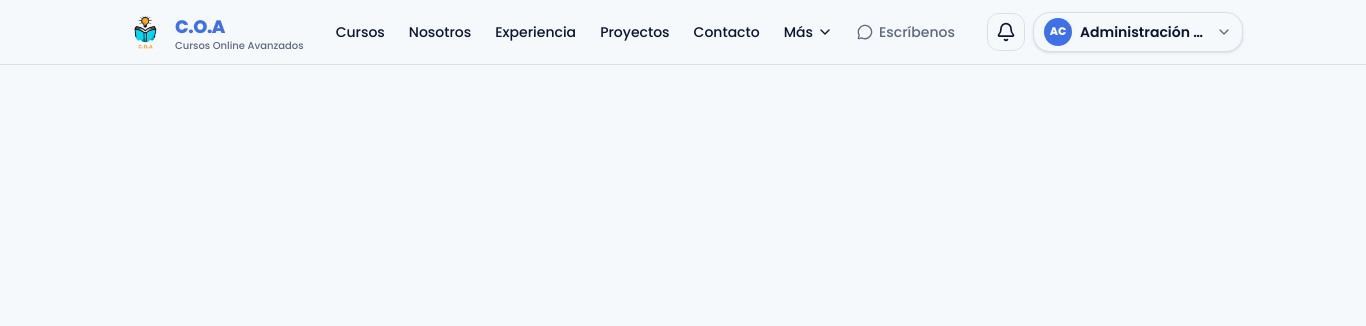
Scenario: shows the admin account and links to the administration panel
Click the button "AC Administración COA" at (1138, 32), box left=1033, top=12, right=1243, bottom=52
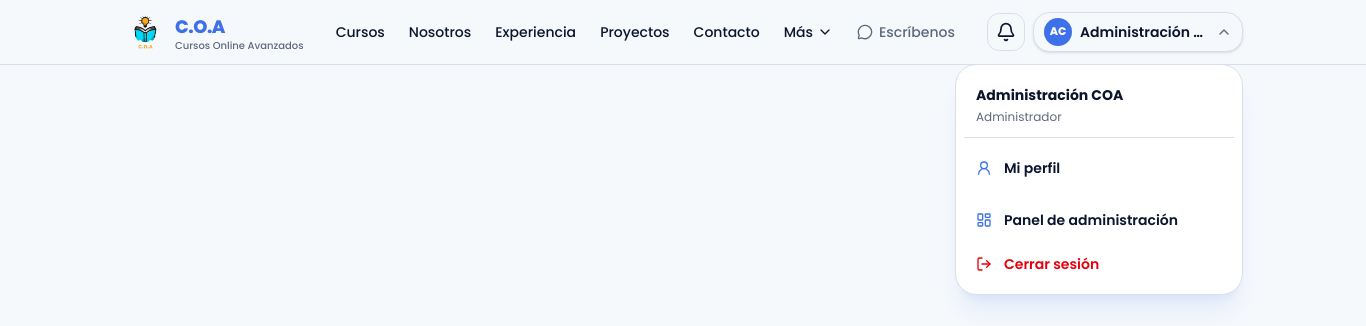
Result: the text "Administrador" is shown at left=976, top=108, right=1062, bottom=125
